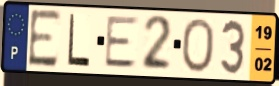2: (141, 13, 174, 74)
3: (219, 18, 247, 77)
E: (26, 8, 63, 70), (103, 15, 141, 70)
L: (66, 12, 91, 69)
O: (180, 17, 216, 75)
